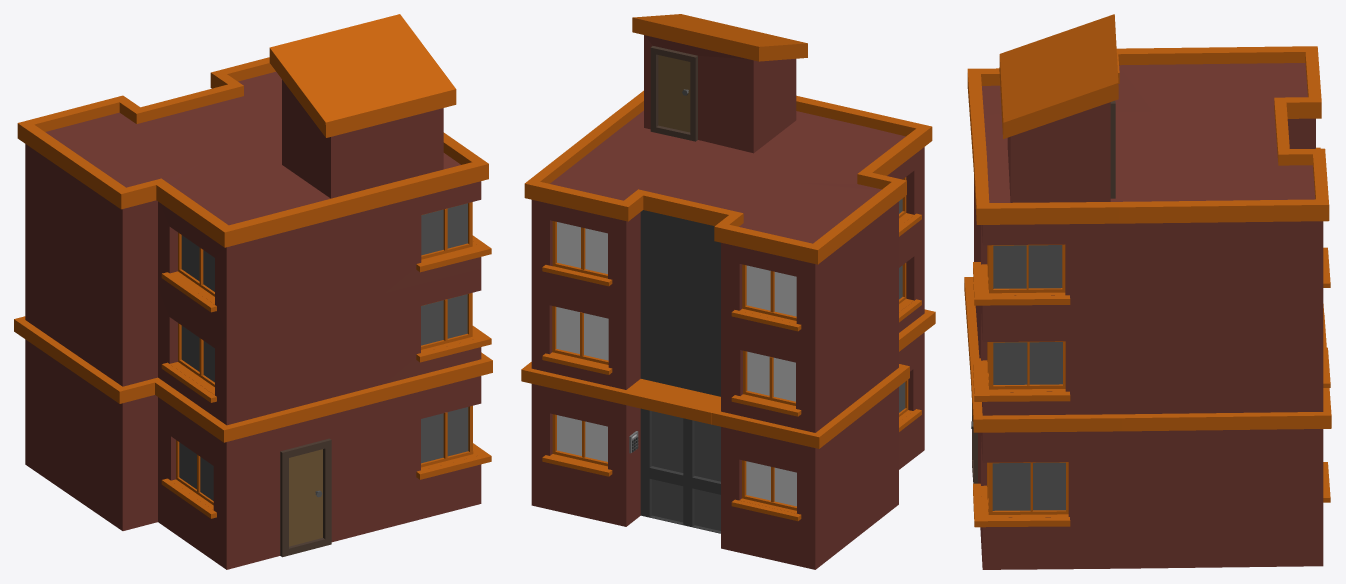
The model's file is Building E Red.fbx.
3 views of the same model, side by side, from view 1: azimuth 30°, elevation 25°; view 2: azimuth 150°, elevation 25°; view 3: azimuth 270°, elevation 25° (orthographic). The views are drawn at different scales.
Visible parts, largest first — view 1: Building E Red.001; view 2: Building E Red.001; view 3: Building E Red.001.
Part boxes in pixels (left/top/right/bottom): Building E Red.001: left=14, top=14, right=492, bottom=569; Building E Red.001: left=521, top=14, right=935, bottom=569; Building E Red.001: left=964, top=14, right=1331, bottom=569.
Bounding box in the file's own units: 803 × 754 × 1084.
